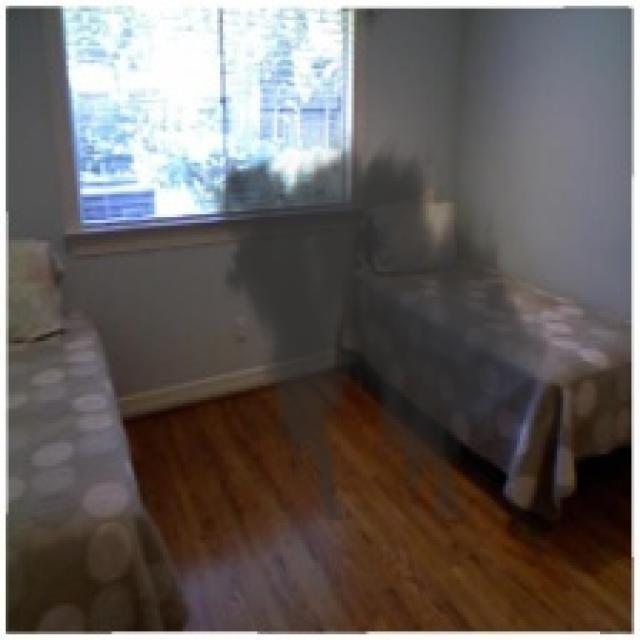Smoke: (197, 125, 560, 520)
